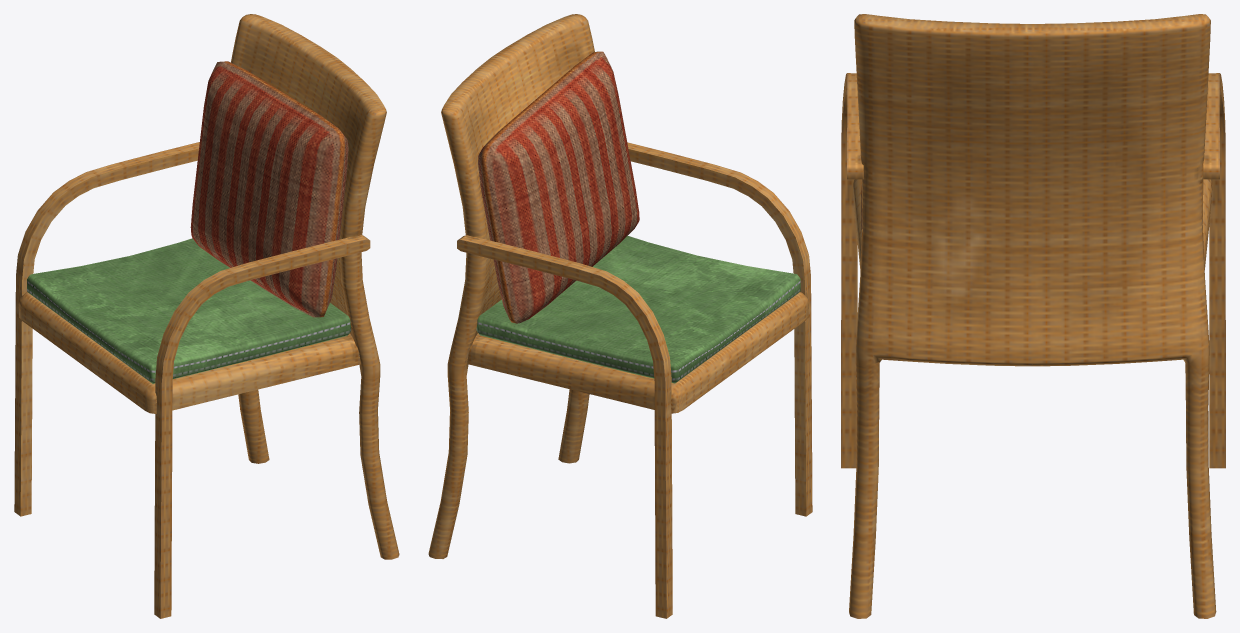
Rendered from MB_Cafe_Chair_05.fbx.
3 views of the same model, side by side, from view 1: azimuth 30°, elevation 25°; view 2: azimuth 150°, elevation 25°; view 3: azimuth 270°, elevation 25° (orthographic). The views are drawn at different scales.
Visible parts, largest first — view 1: MB_Cafe_Chair_05_LOD0; view 2: MB_Cafe_Chair_05_LOD0; view 3: MB_Cafe_Chair_05_LOD0.
Part boxes in pixels (x1,y1,x2,y2): MB_Cafe_Chair_05_LOD0: (14,14,399,618); MB_Cafe_Chair_05_LOD0: (428,14,812,618); MB_Cafe_Chair_05_LOD0: (841,14,1225,618).
Size of what is drawn, in the model's own units: 57.71 by 96.58 by 57.08.
